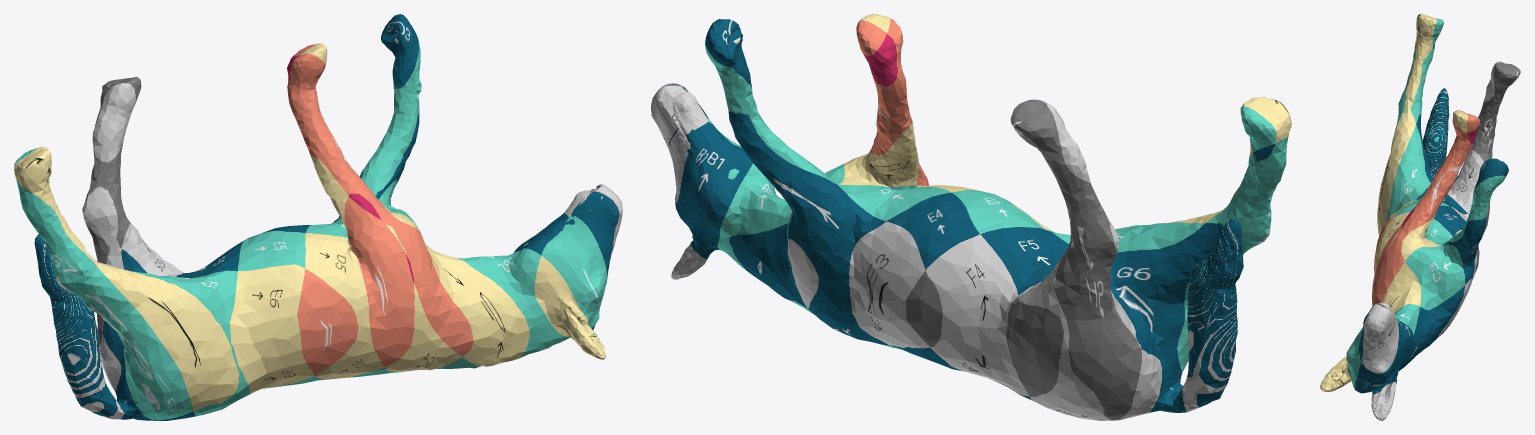
The model's file is cow_04-horse_04.obj.
3 renders of one model, left to right at view 1: azimuth 30°, elevation 25°; view 2: azimuth 150°, elevation 25°; view 3: azimuth 270°, elevation 25°, orthographic. The views are drawn at different scales.
Parts seen in each view (by area): view 1: cow_04-horse_04_export; view 2: cow_04-horse_04_export; view 3: cow_04-horse_04_export.
Boxes of the visible parts, <box> form: cow_04-horse_04_export: <box>14,14,622,420</box>; cow_04-horse_04_export: <box>651,14,1291,420</box>; cow_04-horse_04_export: <box>1320,14,1520,420</box>.
Bounding box in the file's own units: 1.09 × 0.5769 × 0.4582.
